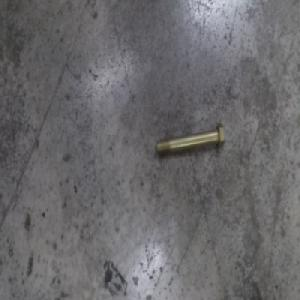Bolt: (155, 121, 224, 157)
